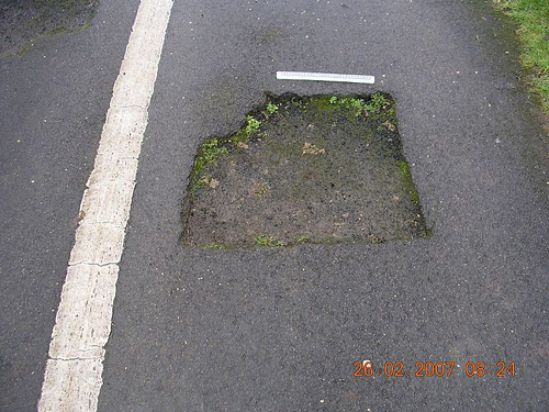pothole: (170, 83, 436, 256)
